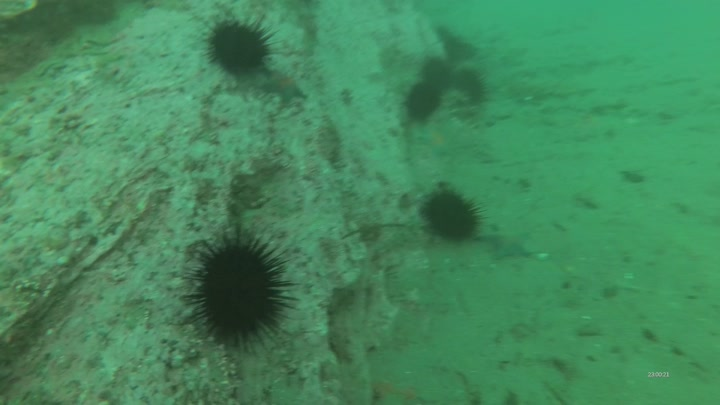echinus: (179, 222, 305, 354), (202, 11, 288, 78), (419, 185, 493, 244), (404, 82, 444, 124), (453, 68, 491, 107), (420, 55, 455, 97), (445, 39, 480, 65)
starfish: (476, 221, 536, 262), (260, 72, 311, 107)
